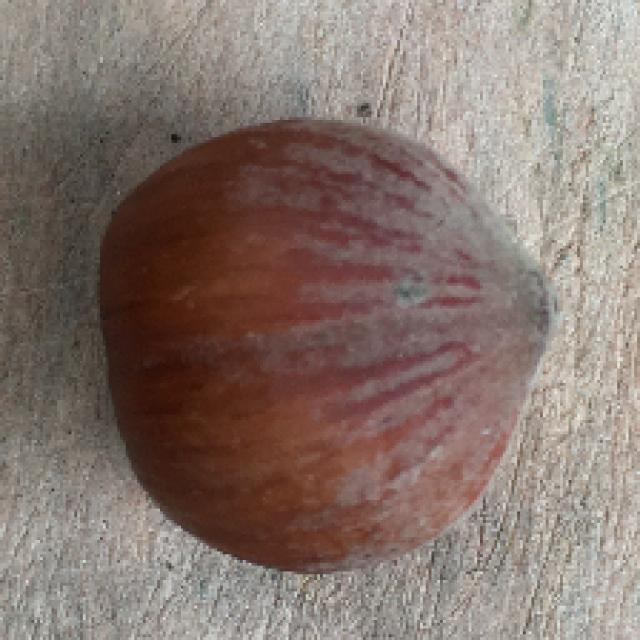qualityHazelnut: (83, 123, 554, 575)
